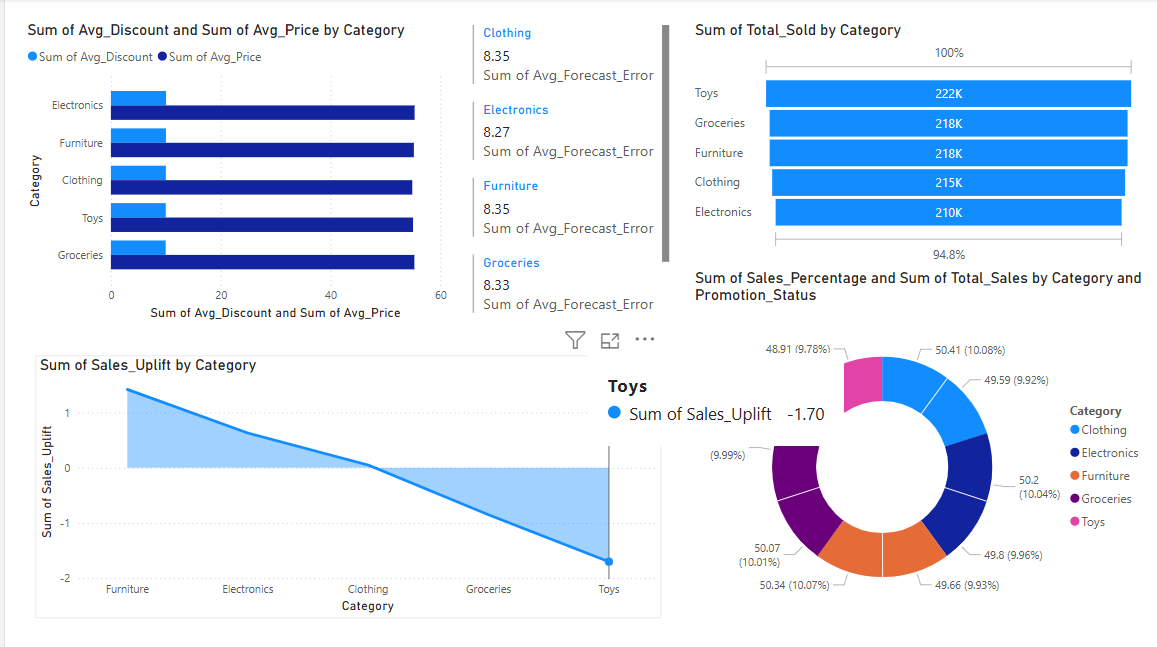

The dashboard page shown, as its layout file describes it:
{"tool":"powerbi","page":{"name":"Page 2","canvas":[1280,720],"ordinal":1},"visuals":[{"type":"clusteredBarChart","fields":{"Category":["avg_discount_price.Category"],"Y":["Sum(avg_discount_price.Avg_Discount)","Sum(avg_discount_price.Avg_Price)"]},"box":[20,25,473.3,335],"z":0},{"type":"multiRowCard","fields":{"Values":["forecast_error.Category","Sum(forecast_error.Avg_Forecast_Error)"]},"box":[511.7,25,226.7,343.3],"z":2000},{"type":"funnel","fields":{"Category":["best-selling.Category"],"Y":["Sum(best-selling.Total_Sold)"]},"box":[756.7,25,496.7,273.3],"z":3001},{"type":"areaChart","fields":{"Category":["sales_uplift.Category"],"Y":["Sum(sales_uplift.Sales_Uplift)"]},"box":[33.3,395,691.7,290],"z":3002},{"type":"donutChart","fields":{"Category":["p_np.Category"],"Series":["p_np.Promotion_Status"],"Y":["Sum(p_np.Sales_Percentage)"]},"box":[757.1,298.6,508.6,401.4],"z":3003}]}

Visuals, with their boxes in screenshot pixels (x1, y1, x2, y2), scaled from the page's 1280x720 canvas onto the 1157x647 screenshot:
clusteredBarChart - avg_discount_price.Category x Sum(avg_discount_price.Avg_Discount): rect(18, 22, 446, 324)
multiRowCard - forecast_error.Category x Sum(forecast_error.Avg_Forecast_Error): rect(463, 22, 667, 331)
funnel - best-selling.Category x Sum(best-selling.Total_Sold): rect(684, 22, 1133, 268)
areaChart - sales_uplift.Category x Sum(sales_uplift.Sales_Uplift): rect(30, 355, 655, 616)
donutChart - p_np.Category x p_np.Promotion_Status: rect(684, 268, 1144, 629)
